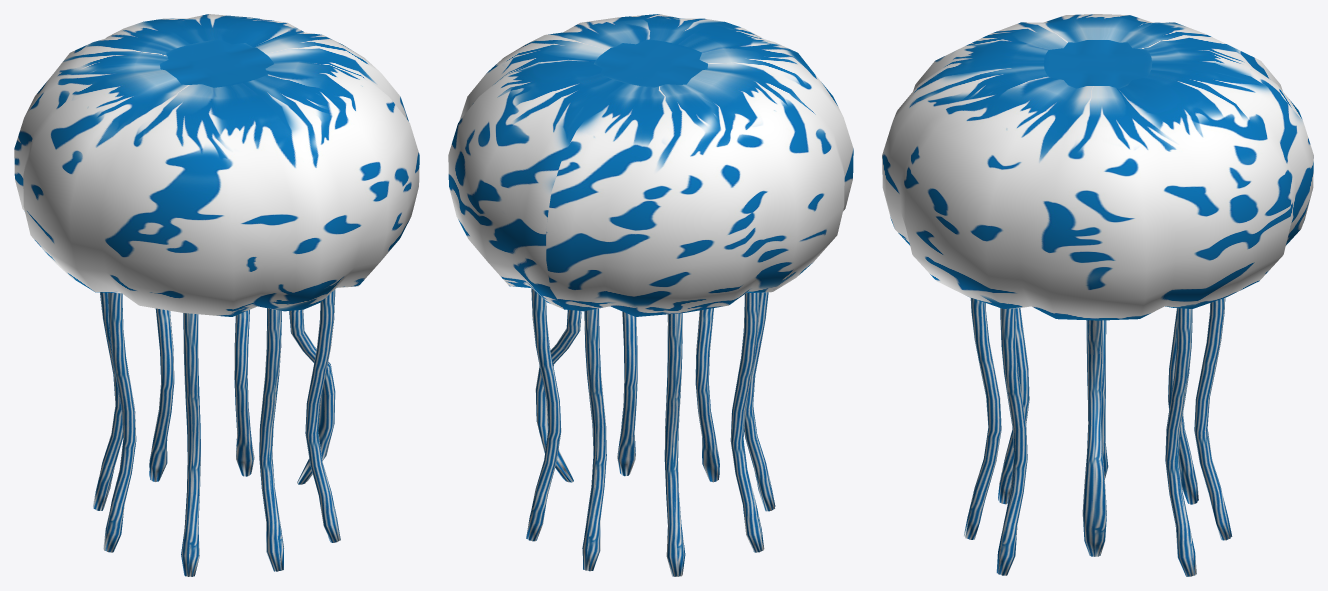
File: jellyfishModel.gltf
3 views of the same model, side by side, from view 1: azimuth 30°, elevation 25°; view 2: azimuth 150°, elevation 25°; view 3: azimuth 270°, elevation 25° (orthographic). The views are drawn at different scales.
Parts seen in each view (by area): view 1: polySurface45, T33, T37, T29, T13, T21, T17, T7, T25; view 2: polySurface45, T25, T21, T29, T17, T37, T13, T33, T7; view 3: polySurface45, T7, T17, T13, T21, T37, T33, T25, T29.
Part boxes in pixels (x1=…): polySurface45: x1=14, y1=14, x2=419, y2=316; T33: x1=181, y1=313, x2=200, y2=576; T37: x1=259, y1=308, x2=283, y2=571; T29: x1=103, y1=292, x2=136, y2=552; T13: x1=305, y1=289, x2=340, y2=542; T21: x1=149, y1=308, x2=174, y2=481; T17: x1=234, y1=310, x2=254, y2=476; T7: x1=289, y1=309, x2=335, y2=484; T25: x1=93, y1=292, x2=123, y2=510; polySurface45: x1=448, y1=14, x2=853, y2=316; T25: x1=664, y1=313, x2=685, y2=576; T21: x1=582, y1=308, x2=606, y2=571; T29: x1=730, y1=292, x2=764, y2=552; T17: x1=526, y1=288, x2=561, y2=541; T37: x1=695, y1=308, x2=719, y2=482; T13: x1=617, y1=311, x2=637, y2=476; T33: x1=744, y1=292, x2=775, y2=511; T7: x1=535, y1=310, x2=581, y2=482; polySurface45: x1=882, y1=14, x2=1313, y2=320; T7: x1=1082, y1=320, x2=1106, y2=556; T17: x1=1165, y1=308, x2=1196, y2=576; T13: x1=996, y1=308, x2=1027, y2=575; T21: x1=1194, y1=298, x2=1232, y2=540; T37: x1=964, y1=298, x2=1001, y2=539; T33: x1=998, y1=308, x2=1029, y2=504; T25: x1=1168, y1=308, x2=1198, y2=504; T29: x1=1101, y1=320, x2=1108, y2=479.
Size of what is drawn, in the model's own units: 0.478 by 0.6095 by 0.5009.
Materials: 1 (1 with a texture image).
